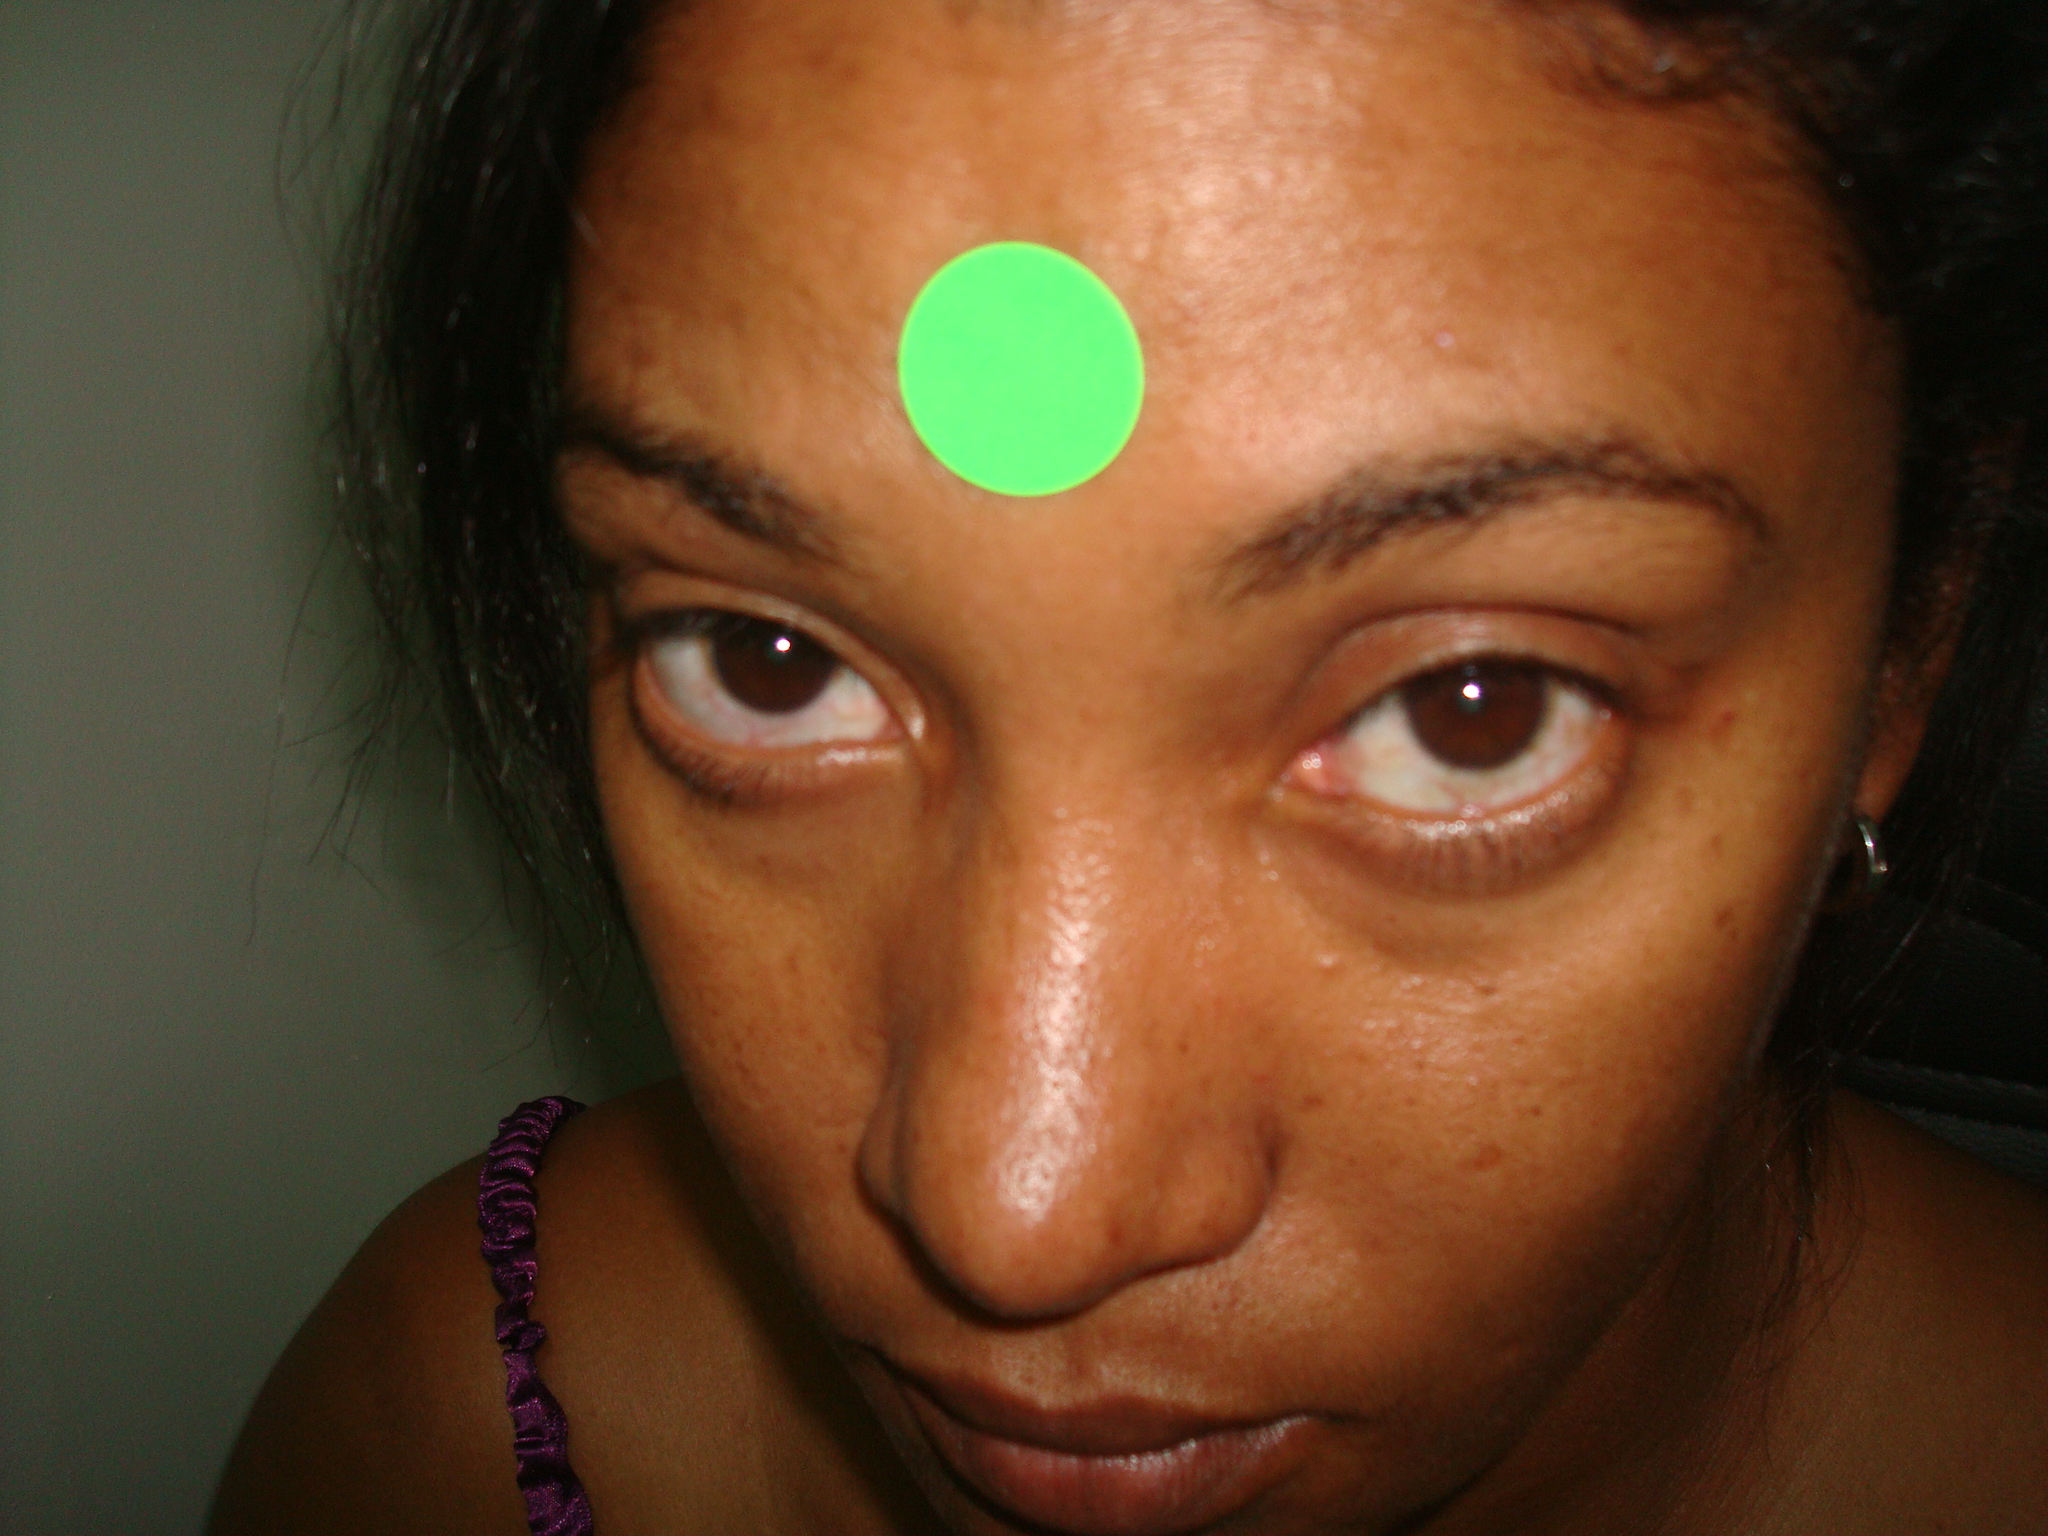flash: (1459, 679, 1482, 702), (776, 636, 792, 653)
limbo: (1401, 637, 1545, 765), (722, 599, 832, 707)
